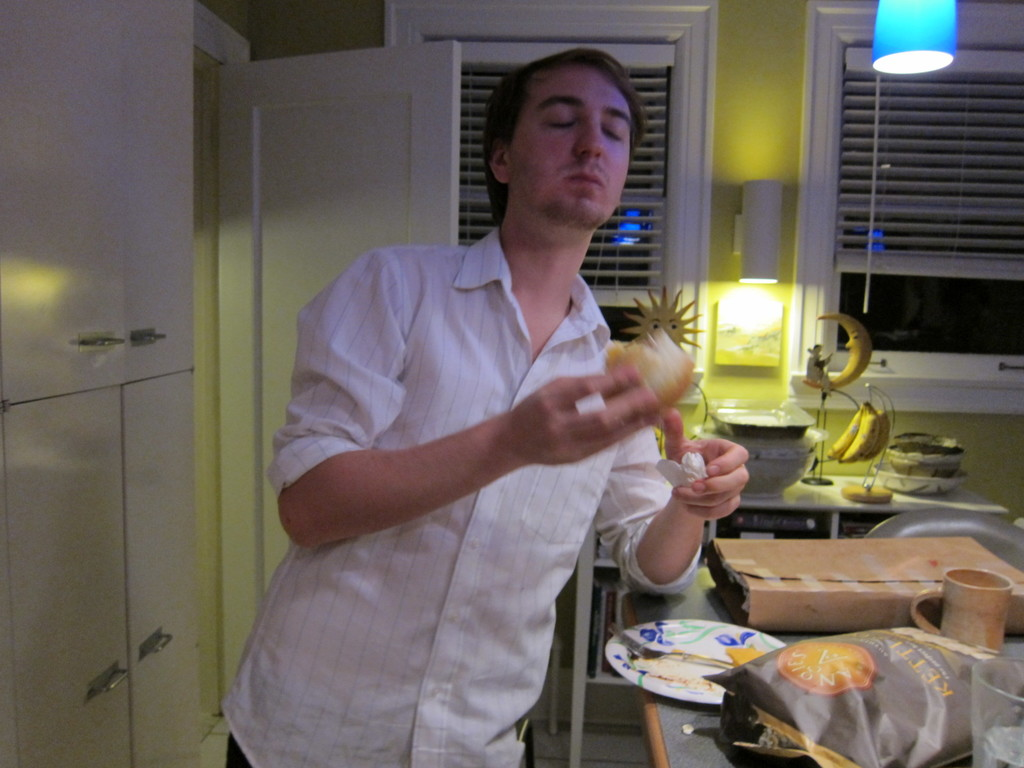Human_hand: (505, 362, 664, 467), (664, 410, 753, 523)
